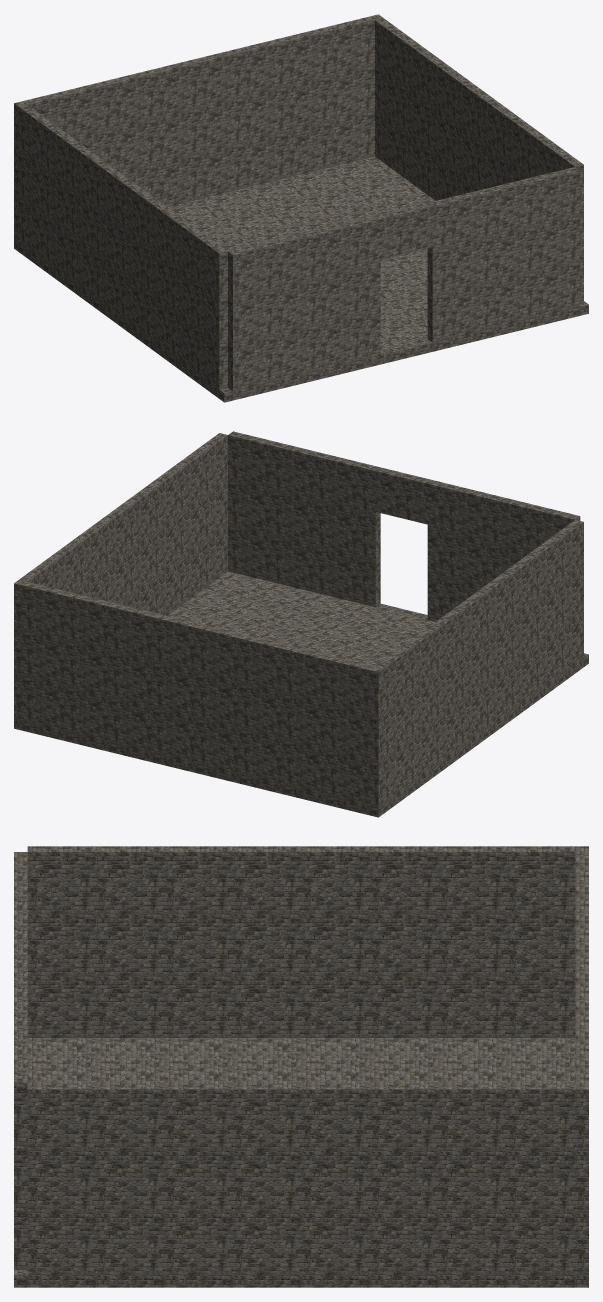
The model's file is Square_Room_8m.glb.
3 views of the same model, one above another, from view 1: azimuth 30°, elevation 25°; view 2: azimuth 150°, elevation 25°; view 3: azimuth 270°, elevation 25° (orthographic). The views are drawn at different scales.
Visible parts, largest first — view 1: north, side, floor, door_jamb, door_jamb.001, side.001, door_lintel; view 2: north, side, door_jamb.001, side.001, floor, door_jamb, door_lintel; view 3: side.001, side, floor, north, door_jamb.001, door_jamb.
Part boxes in pixels (x1,y1,x2,y2): north: [14, 14, 382, 242]; side: [19, 105, 227, 389]; floor: [14, 156, 588, 402]; door_jamb: [228, 215, 380, 391]; door_jamb.001: [427, 167, 580, 342]; side.001: [375, 18, 583, 301]; door_lintel: [376, 203, 432, 259]; north: [14, 579, 383, 808]; side: [375, 520, 583, 804]; door_jamb.001: [228, 431, 380, 607]; side.001: [19, 433, 227, 615]; floor: [14, 571, 588, 817]; door_jamb: [427, 480, 580, 621]; door_lintel: [375, 467, 432, 524]; side.001: [27, 1083, 575, 1275]; side: [27, 846, 575, 1037]; floor: [14, 1038, 588, 1287]; north: [575, 846, 588, 1275]; door_jamb.001: [14, 985, 27, 1269]; door_jamb: [14, 852, 27, 950].
Bounding box in the file's own units: 8.4 × 3.2 × 8.4.
Materials: 1 (1 with a texture image).
